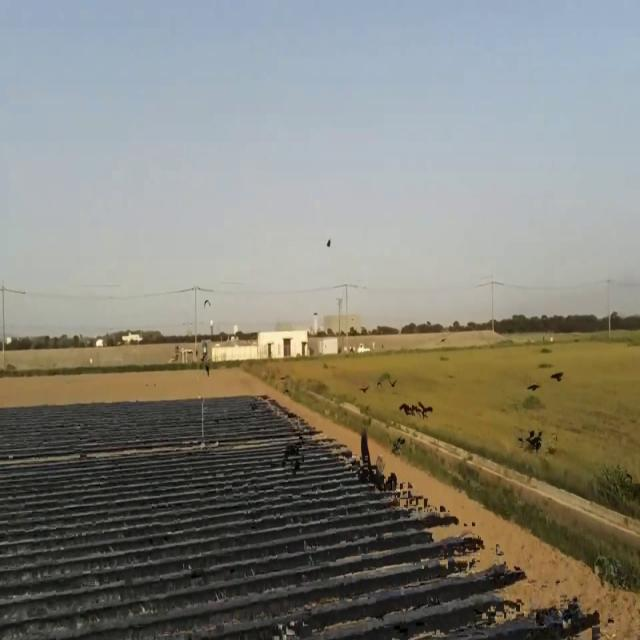bird: (527, 424, 543, 456), (550, 364, 564, 388), (527, 374, 540, 398), (418, 398, 429, 420), (402, 398, 411, 418), (326, 234, 332, 253)
